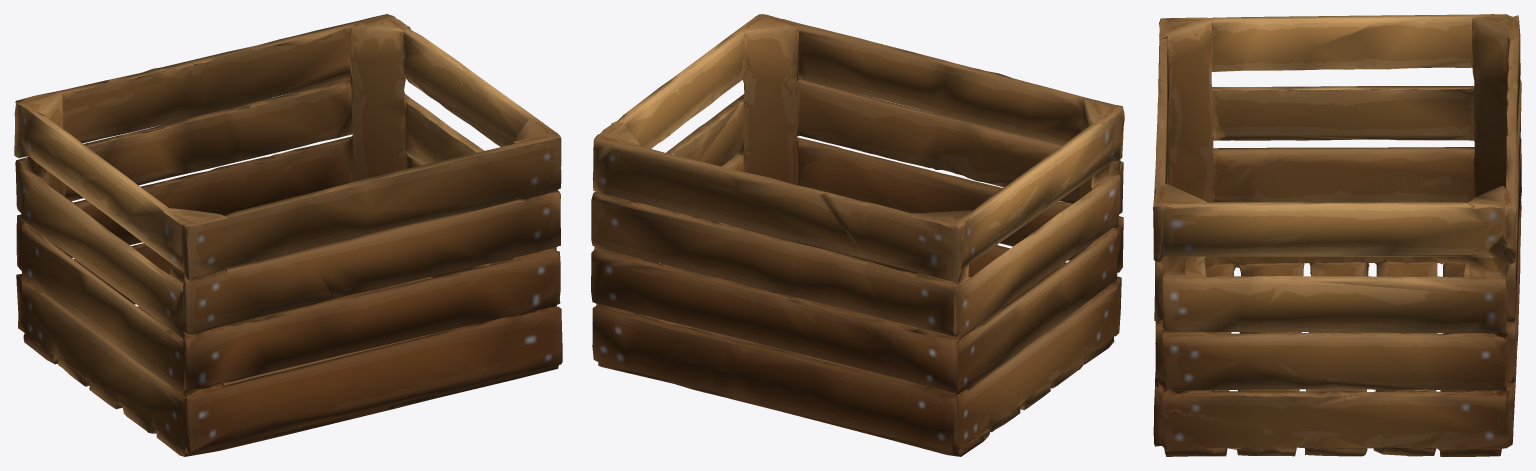
File: woodenCase2.fbx
3 renders of one model, left to right at view 1: azimuth 30°, elevation 25°; view 2: azimuth 150°, elevation 25°; view 3: azimuth 270°, elevation 25°, orthographic. The views are drawn at different scales.
Parts seen in each view (by area): view 1: Aset_props_storage_M_vijncb3_LOD0__mat__mat_Default_OBJ_0; view 2: Aset_props_storage_M_vijncb3_LOD0__mat__mat_Default_OBJ_0; view 3: Aset_props_storage_M_vijncb3_LOD0__mat__mat_Default_OBJ_0.
Boxes of the visible parts, x1=… form: Aset_props_storage_M_vijncb3_LOD0__mat__mat_Default_OBJ_0: x1=14, y1=14, x2=562, y2=456; Aset_props_storage_M_vijncb3_LOD0__mat__mat_Default_OBJ_0: x1=591, y1=14, x2=1124, y2=456; Aset_props_storage_M_vijncb3_LOD0__mat__mat_Default_OBJ_0: x1=1153, y1=14, x2=1521, y2=456.
Bounding box in the file's own units: 65.91 × 40.11 × 52.83.
